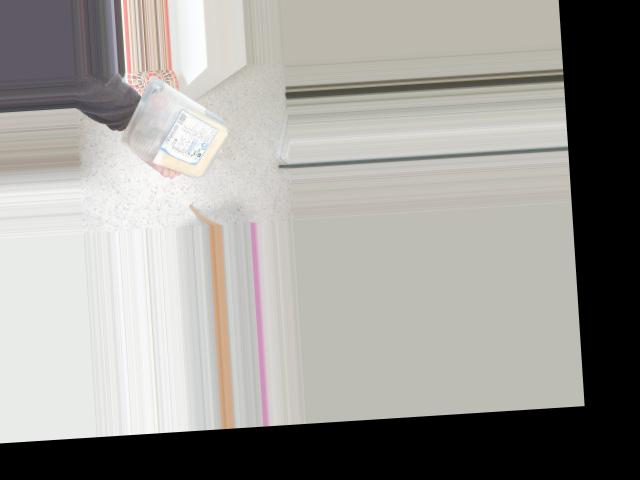cheese: (135, 113, 232, 171)
